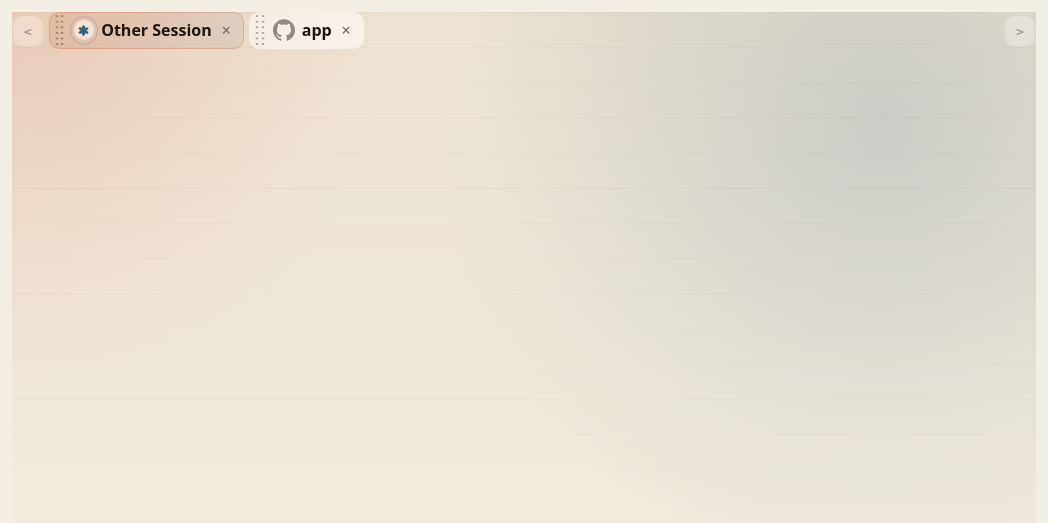
Test: PaneTabs › opens a dedicated git tab context menu with repo actions
Right-click the tab with aria-label "Git status: app" at (307, 30), box [249, 12, 364, 49]
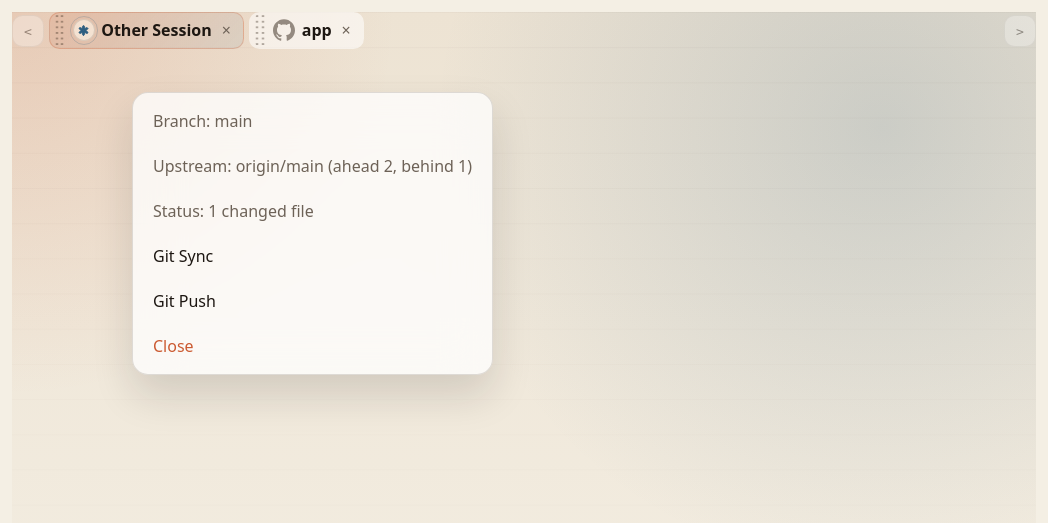
expect the menu named "Git tab actions" is shown: met, box [132, 92, 493, 375]
expect the menu item "Branch: main" is shown: met, box [139, 99, 486, 144]
expect the menu item "Upstream: origin/main (ahead 2, behind 1)" is shown: met, box [139, 144, 486, 189]
Click the menu item "Git Push" at (184, 301), box [139, 279, 486, 324]
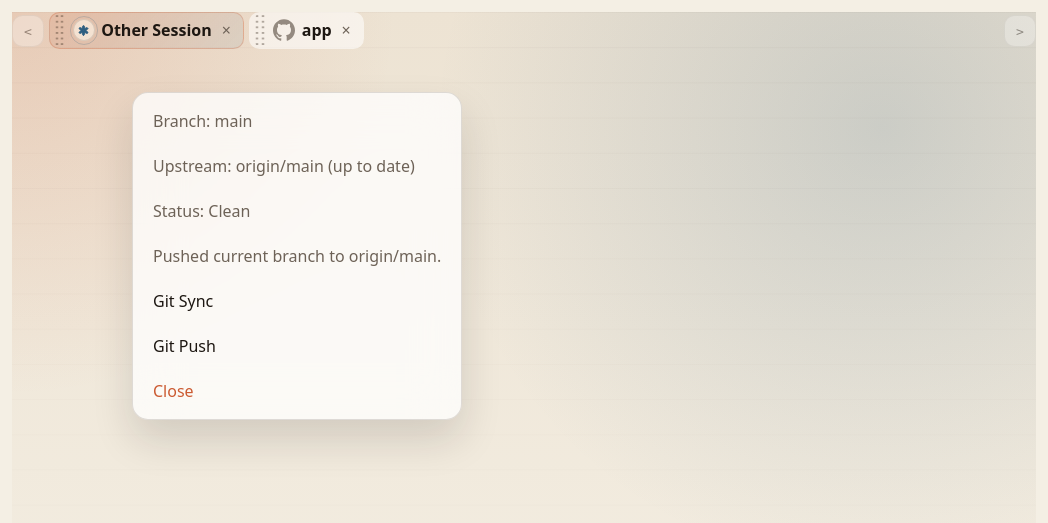
expect the menu item "Pushed current branch to origin/main." is shown: met, box [139, 234, 456, 279]
